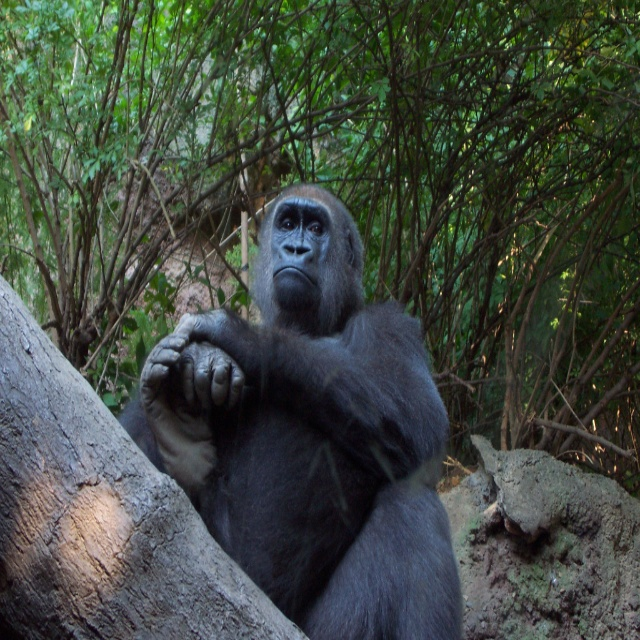Monkey: (114, 184, 467, 639)
